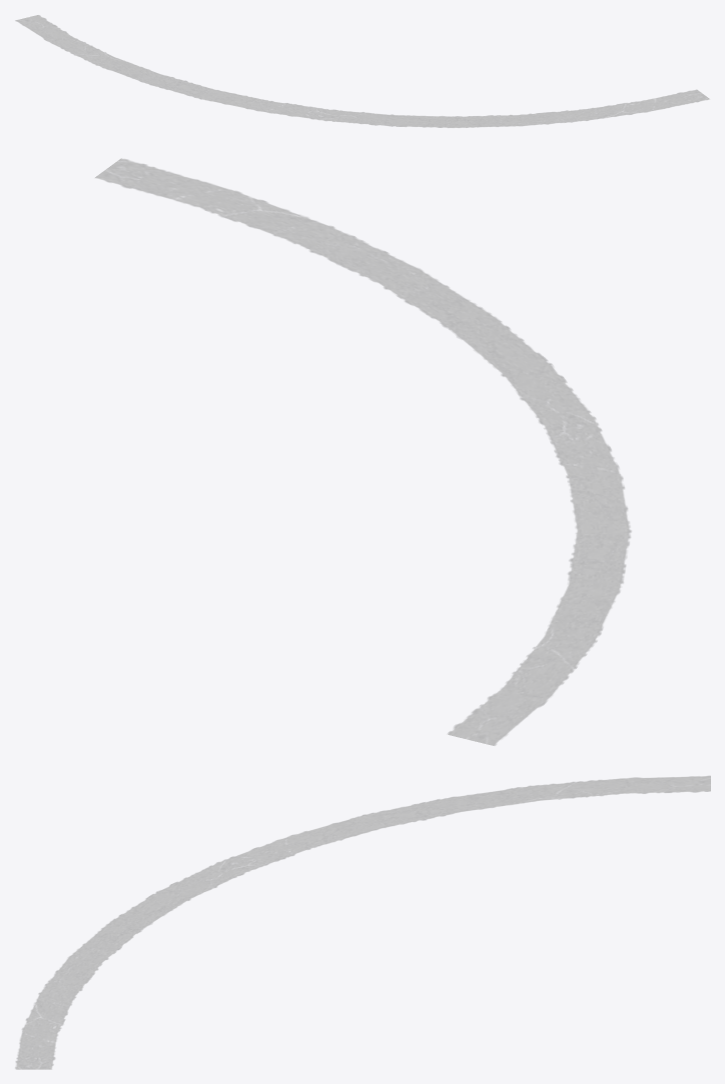
File: Sidewalk_Corner_Round_3m_Stripe.glb
3 renders of one model, top to bottom at view 1: azimuth 30°, elevation 25°; view 2: azimuth 150°, elevation 25°; view 3: azimuth 270°, elevation 25°, orthographic. The views are drawn at different scales.
Parts seen in each view (by area): view 1: Sidewalk_Corner_Round_3m_Stripe; view 2: Sidewalk_Corner_Round_3m_Stripe; view 3: Sidewalk_Corner_Round_3m_Stripe.
Part boxes in pixels (box(x1,y1,x2,y2)): Sidewalk_Corner_Round_3m_Stripe: box(15, 15, 709, 127); Sidewalk_Corner_Round_3m_Stripe: box(95, 158, 631, 745); Sidewalk_Corner_Round_3m_Stripe: box(15, 776, 710, 1069).
Bounding box in the file's own units: 3.4 × 0 × 3.4.
1 material, 1 textured.
